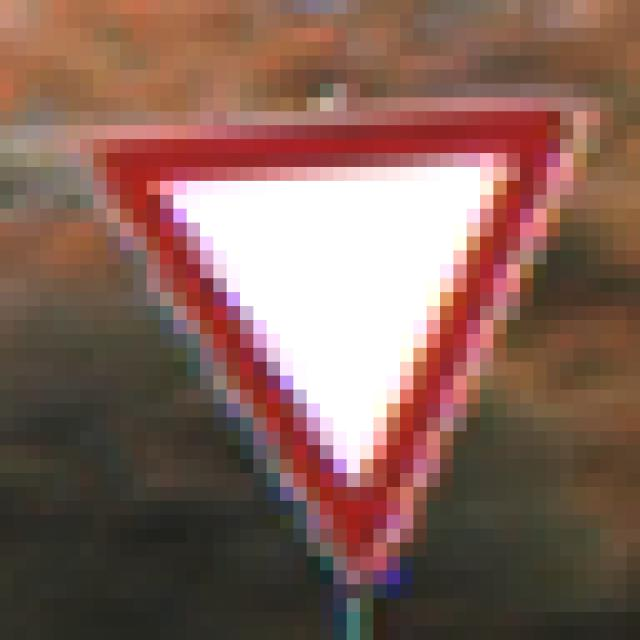Give Way: (68, 85, 574, 572)
